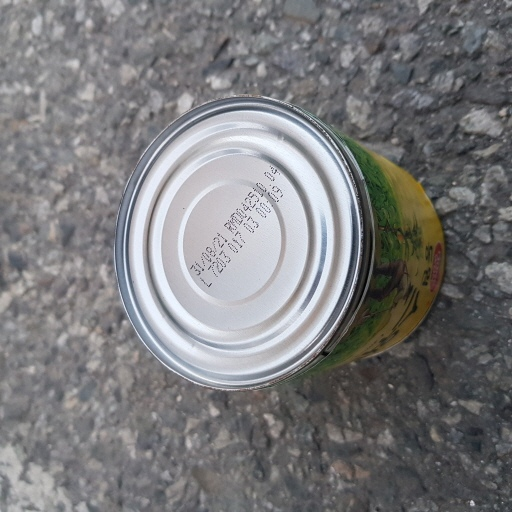Metal_1: (112, 93, 447, 394)
